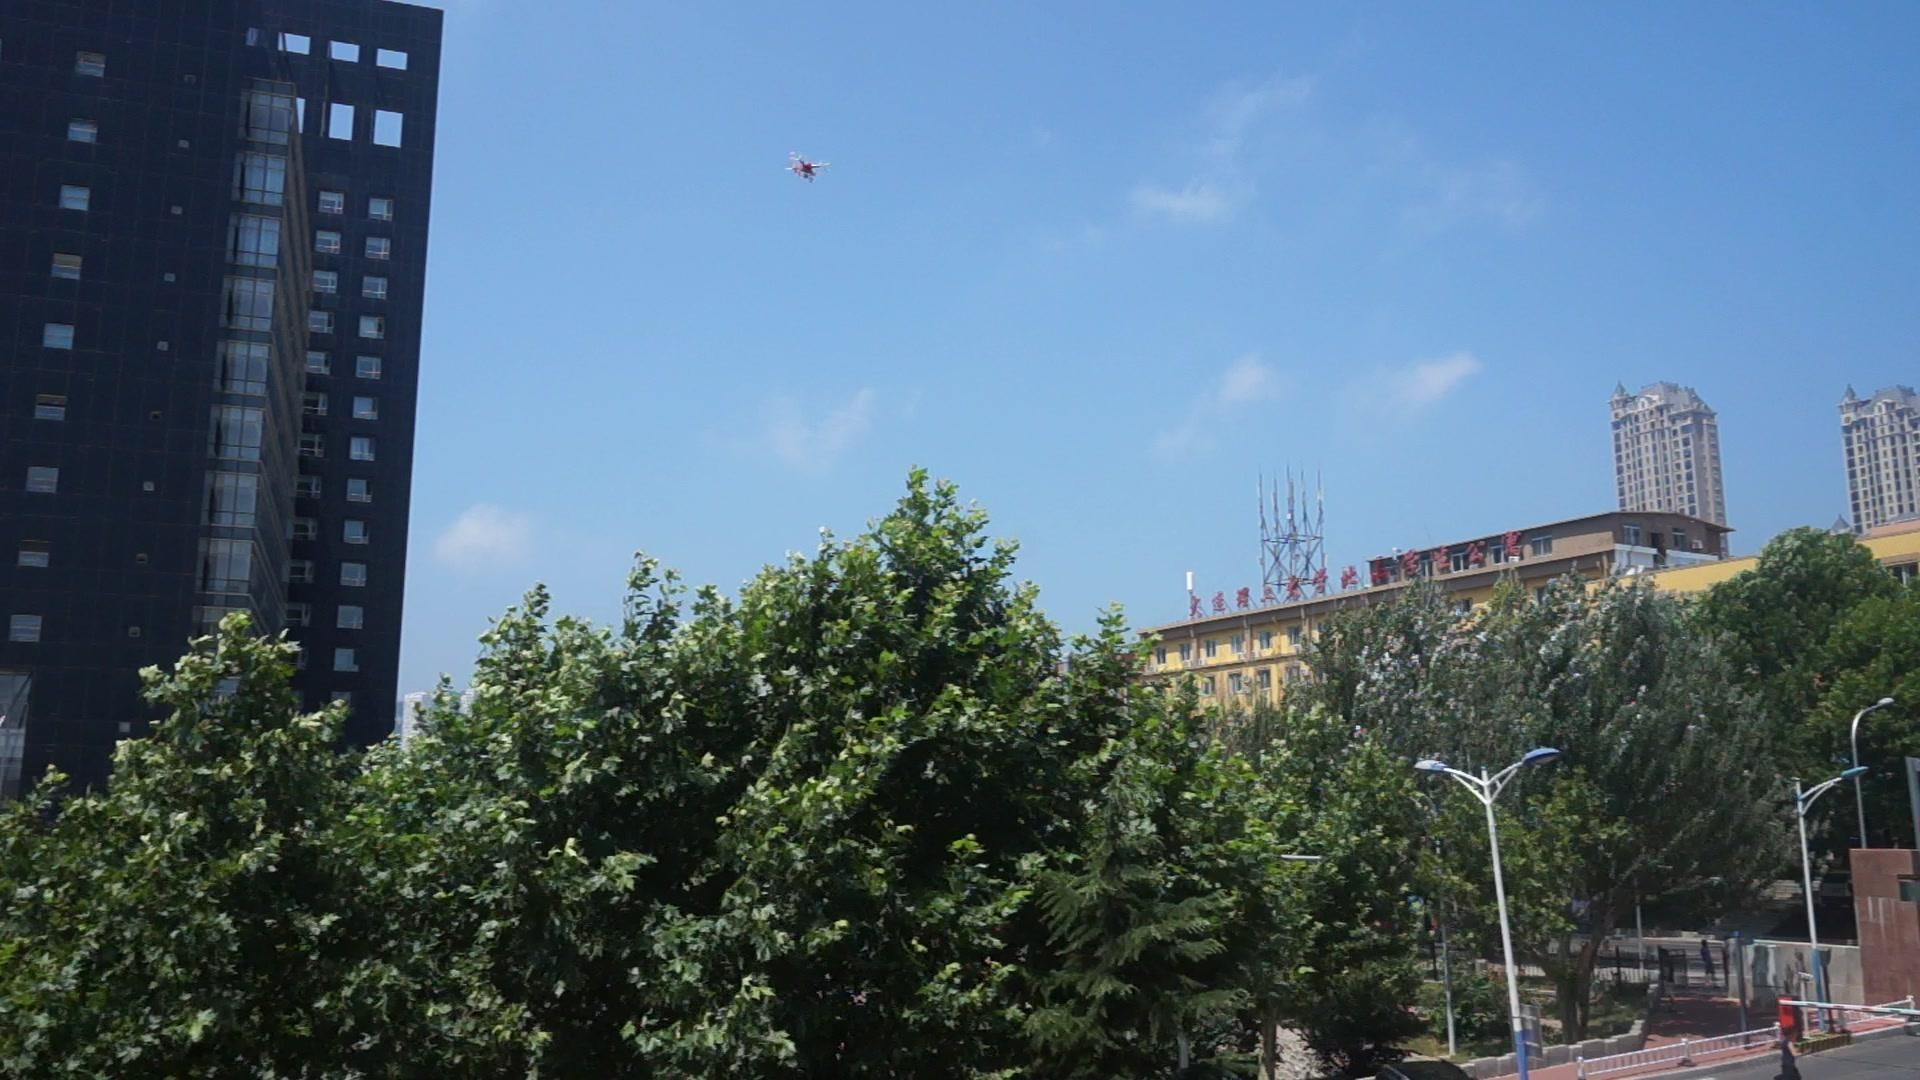UAV: (787, 152, 833, 185)
